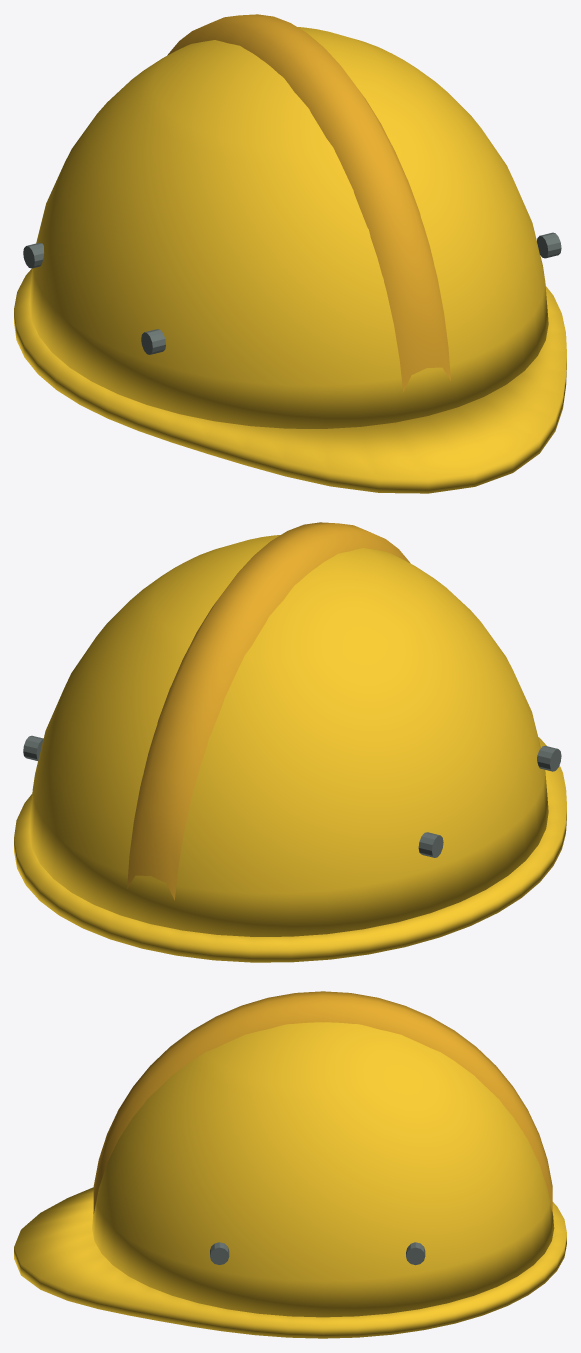
File: e11d-foreman-hard-hat.glb
3 renders of one model, top to bottom at view 1: azimuth 30°, elevation 25°; view 2: azimuth 150°, elevation 25°; view 3: azimuth 270°, elevation 25°, orthographic. The views are drawn at different scales.
Visible parts, largest first — view 1: Foreman_HardHat_WearPlane; view 2: Foreman_HardHat_WearPlane; view 3: Foreman_HardHat_WearPlane.
Part boxes in pixels (box(x1,y1,x2,y2)): Foreman_HardHat_WearPlane: box(14, 14, 566, 493); Foreman_HardHat_WearPlane: box(14, 522, 566, 962); Foreman_HardHat_WearPlane: box(14, 991, 566, 1338).
Size of the model in its own units: 0.28 by 0.182 by 0.347.
